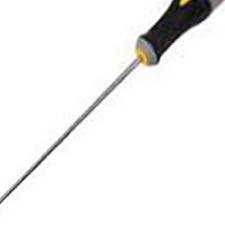screwdriver: (2, 2, 212, 209)
